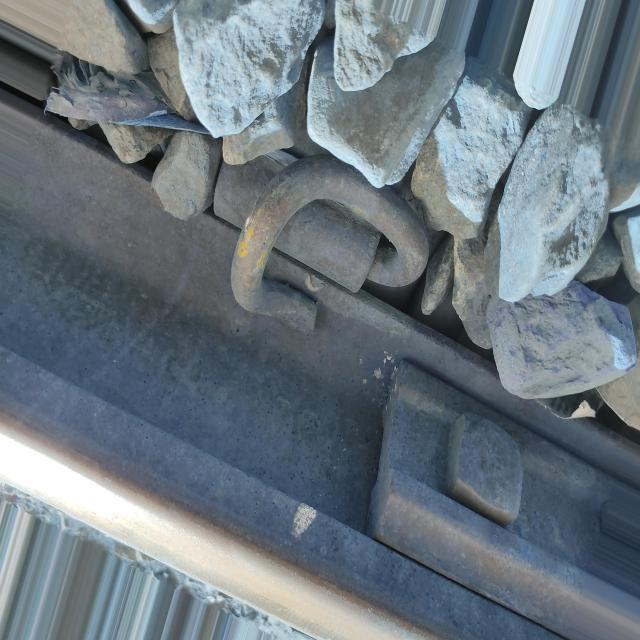Good Fasteners: (202, 133, 431, 330)
